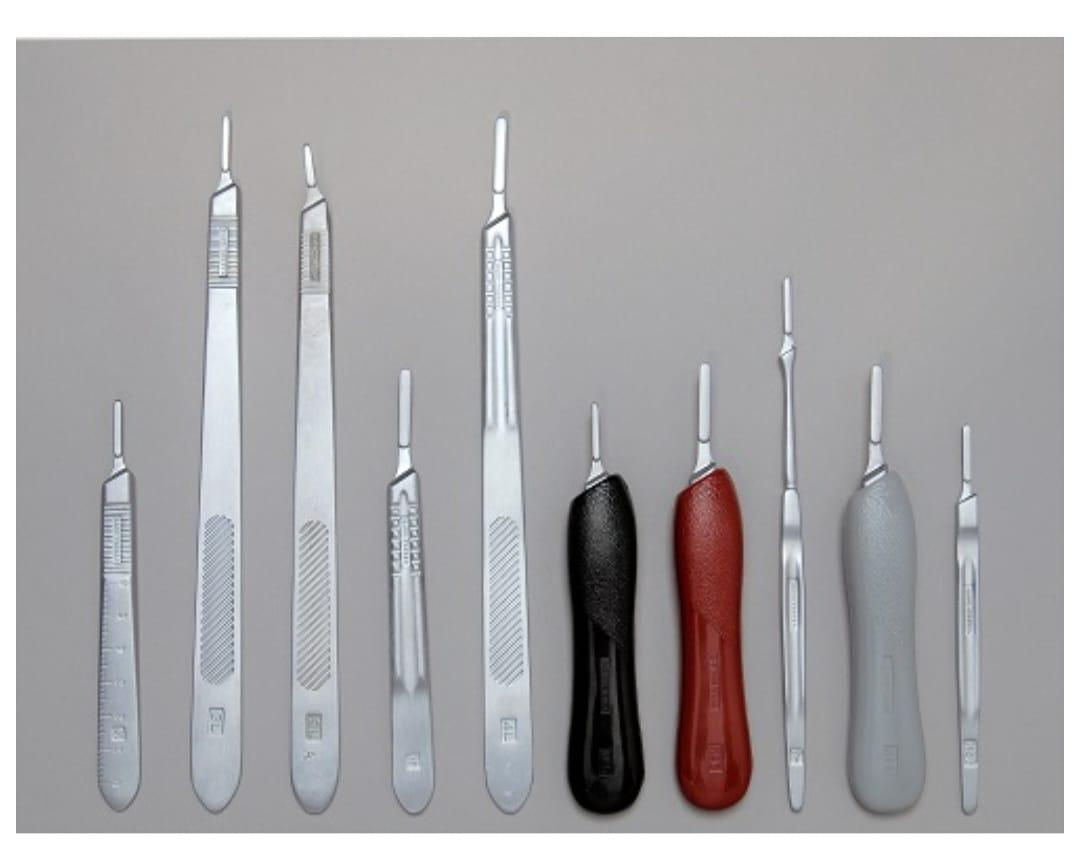Knife Handle: (459, 105, 551, 812), (181, 88, 255, 819), (275, 130, 346, 826), (835, 359, 934, 823), (665, 354, 754, 815), (559, 395, 649, 819), (363, 365, 444, 826), (82, 392, 162, 820), (946, 416, 1001, 824), (772, 440, 818, 820)
